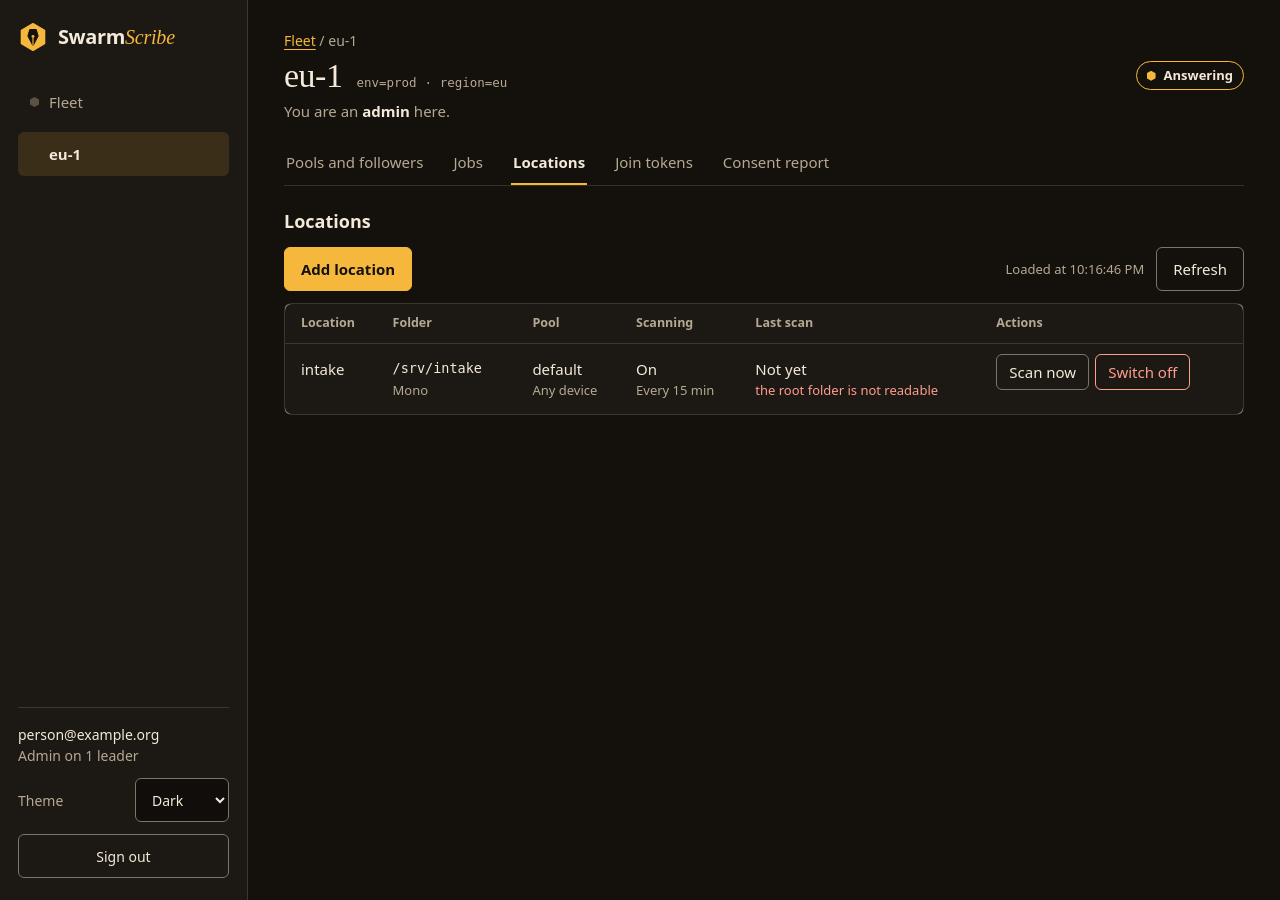
Test case: locations tab › announces a refused scan where the person is
This screenshot has width=1280, height=900.
Click the button with aria-label "Scan now intake" at coordinates (1043, 372), box 996,354 -> 1089,390
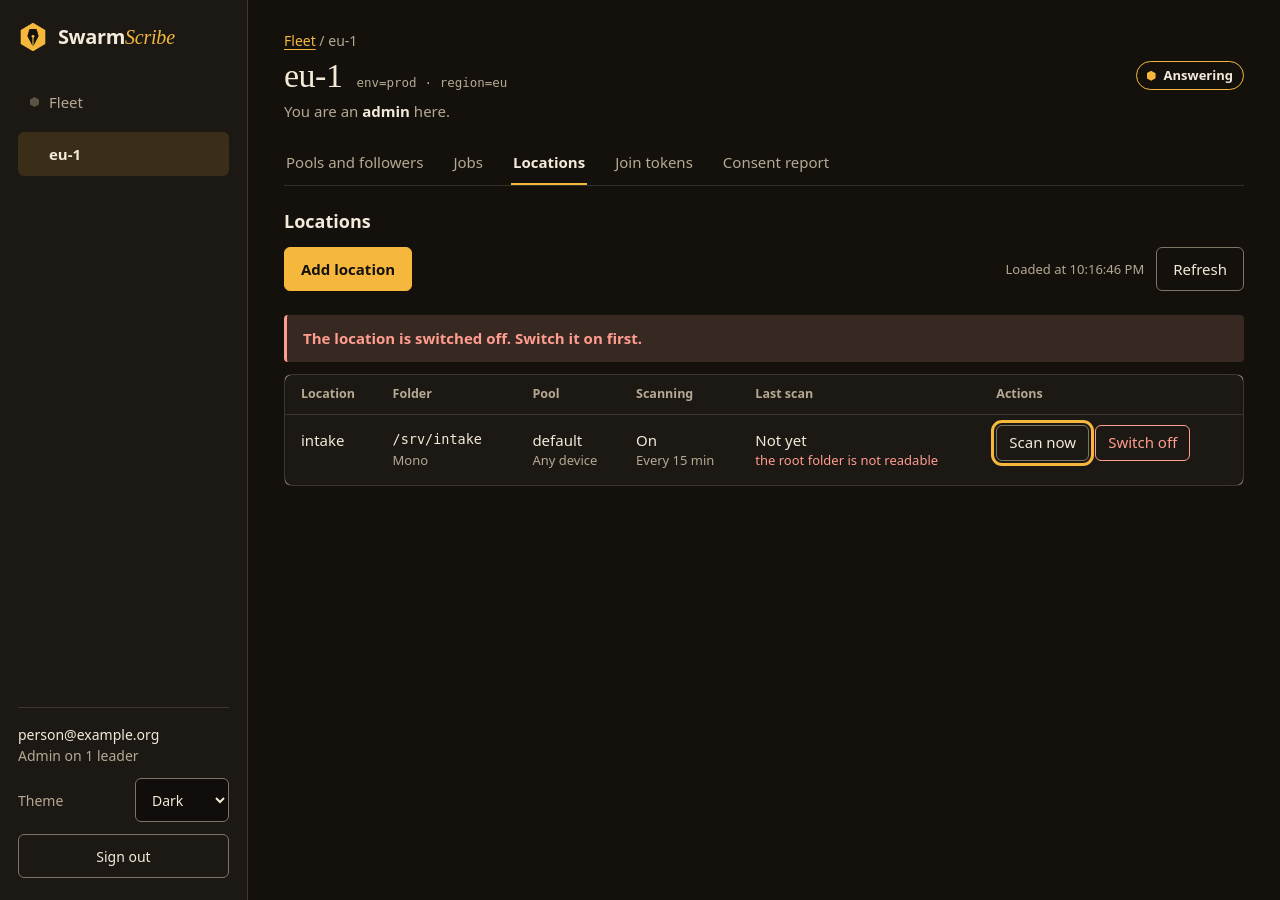
Expected: the message reads "The location is switched off. Switch it on first.", 303,328 -> 642,348
